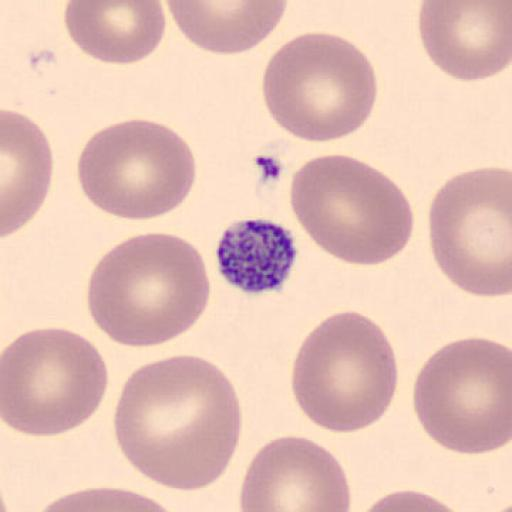Platelet: (212, 216, 300, 296)
RBC: (114, 353, 242, 493), (85, 230, 212, 348), (289, 152, 415, 268), (290, 308, 400, 435), (261, 30, 378, 144), (75, 117, 198, 222), (411, 334, 512, 457), (1, 326, 110, 437), (426, 164, 512, 299), (239, 434, 353, 512), (418, 0, 512, 82), (1, 107, 54, 239), (164, 0, 287, 56), (63, 0, 167, 66), (32, 485, 183, 512), (35, 486, 143, 512), (360, 488, 469, 512)
